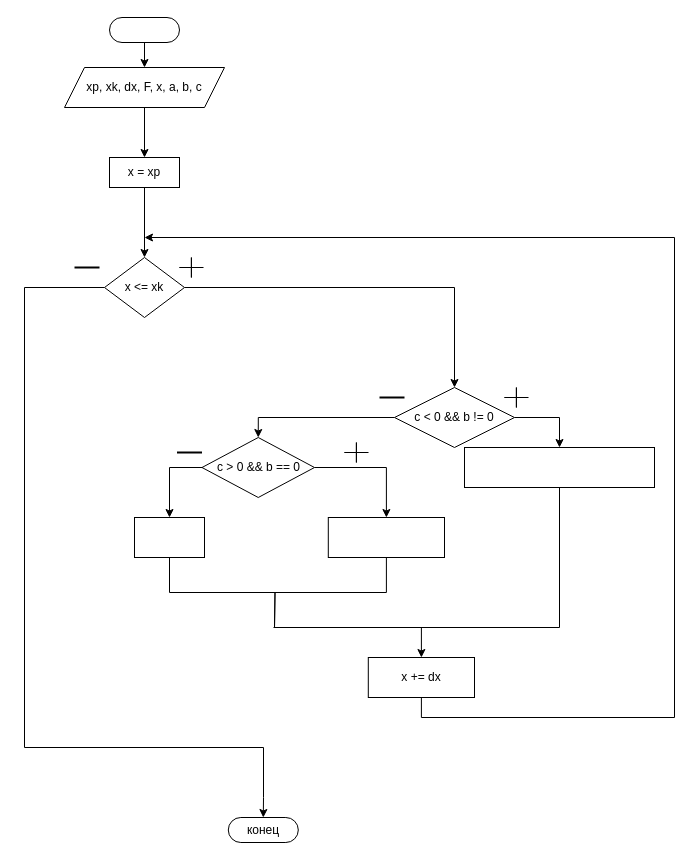
The diagram is 700 pixels wide and 860 high, and some of its shapes have lost their labels. Here are the shapes that lost their labels. From the top down, the box of each, then its label:
(108, 16, 180, 42): Початок
(464, 446, 654, 488): F = a * pow(x, 2) + pow(b, 2) * x
(134, 516, 204, 558): F = x / c
(327, 516, 444, 558): F = (x + a) / (x + c)
